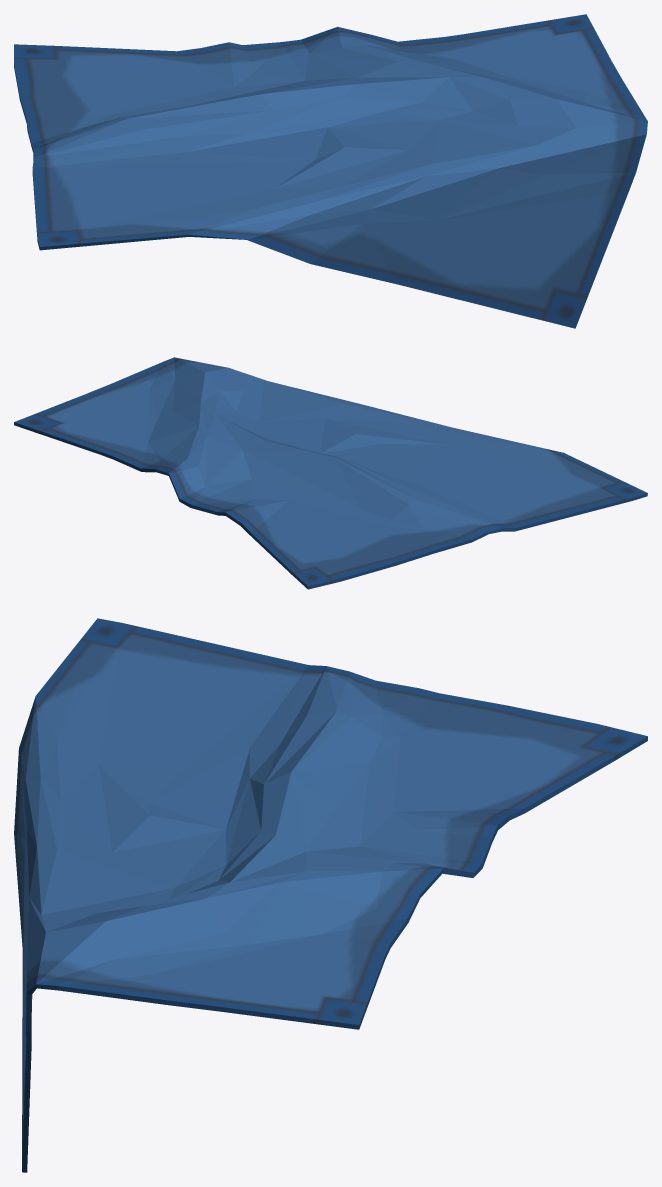
File: SM_Prop_Tarp_Generic_01.fbx
3 renders of one model, top to bottom at view 1: azimuth 30°, elevation 25°; view 2: azimuth 150°, elevation 25°; view 3: azimuth 270°, elevation 25°, orthographic. The views are drawn at different scales.
Parts seen in each view (by area): view 1: SM_Prop_Tarp_Generic_01; view 2: SM_Prop_Tarp_Generic_01; view 3: SM_Prop_Tarp_Generic_01.
Part boxes in pixels (x1,y1,x2,y2): SM_Prop_Tarp_Generic_01: (14, 14, 647, 328); SM_Prop_Tarp_Generic_01: (14, 357, 647, 589); SM_Prop_Tarp_Generic_01: (14, 618, 647, 1172).
Size of the model in its own units: 460 by 142 by 303.
